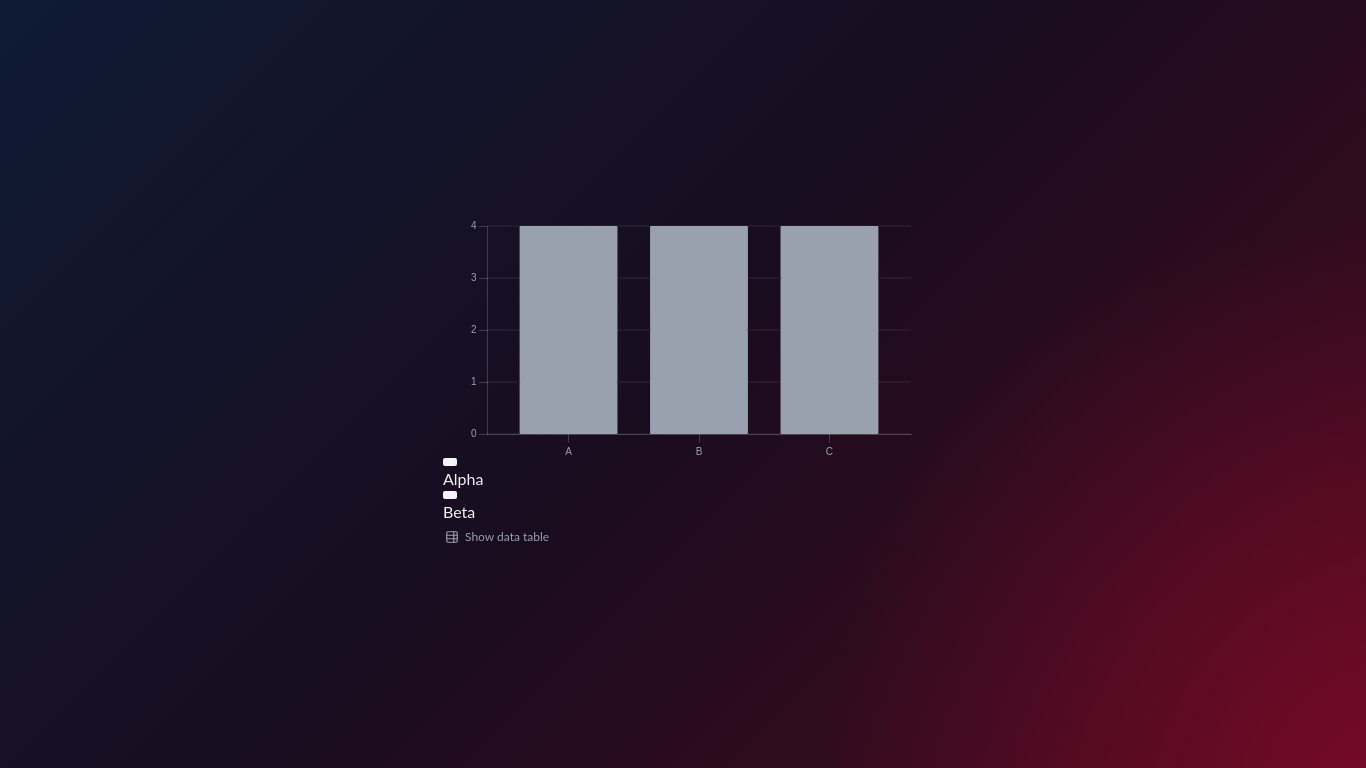
Scenario: charts › BarChart: role=img, keyboard-focus tooltip with live announcement, data table fallback, legend toggle
The width and height of the screenshot is (1366, 768).
Later steps or results of the test are not shown.
Press ArrowRight in the picture named "Deploys", box [443, 218, 923, 458]
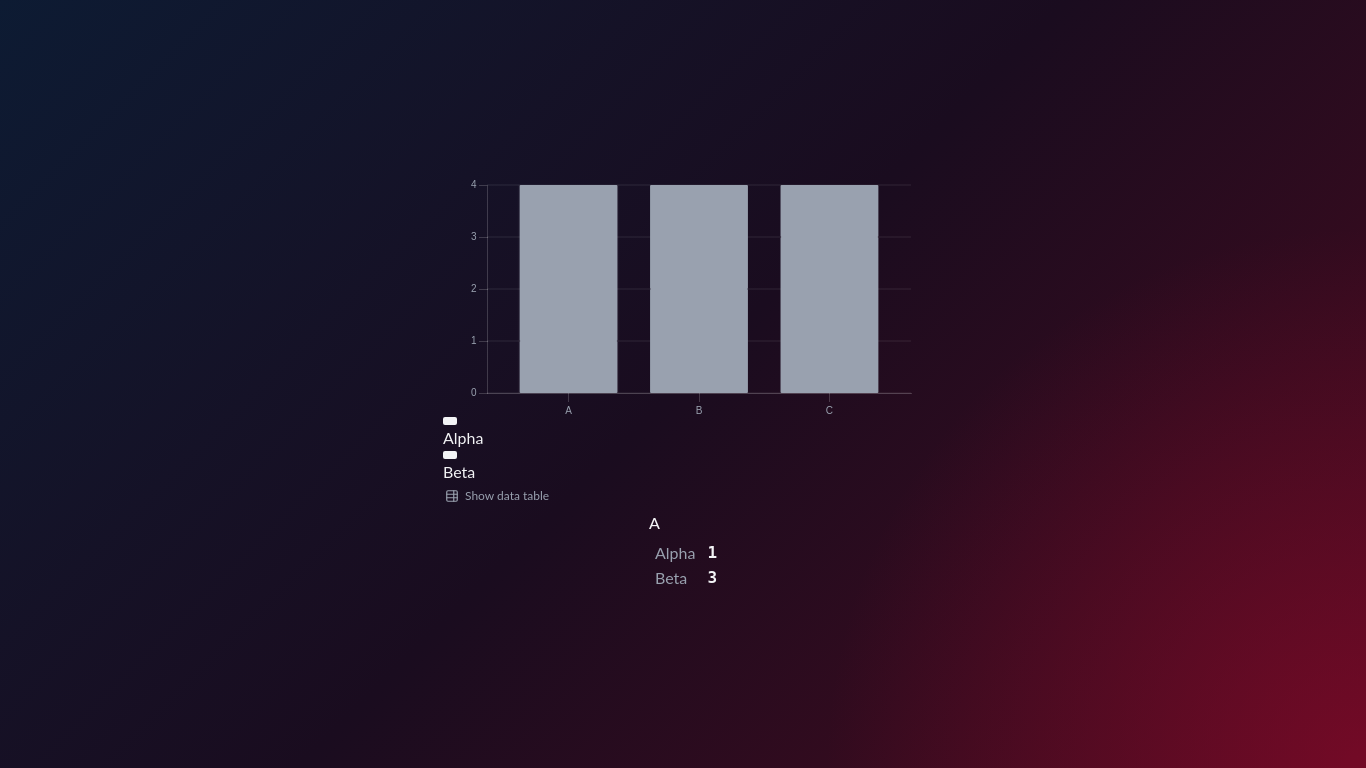
Press ArrowRight in the picture named "Deploys", box [443, 177, 923, 417]
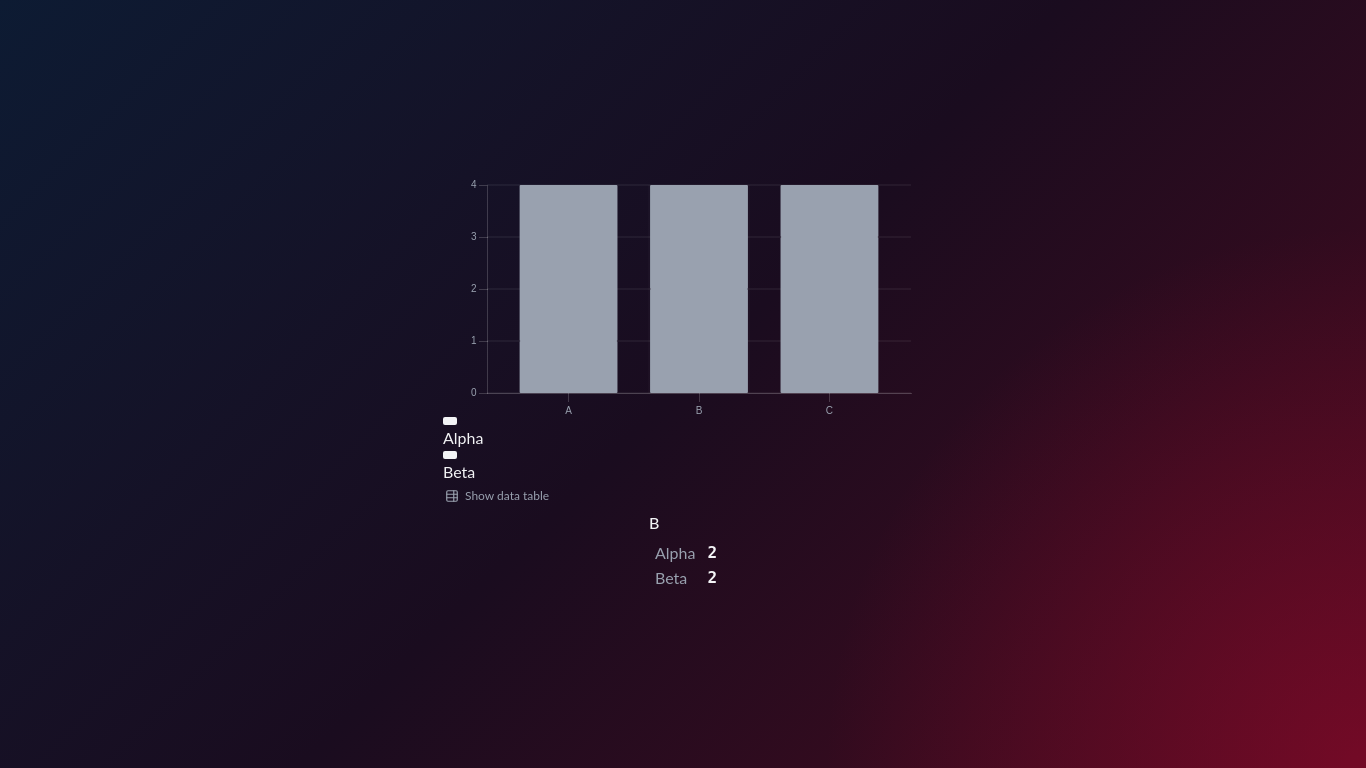
Press Escape in the picture named "Deploys", box [443, 177, 923, 417]
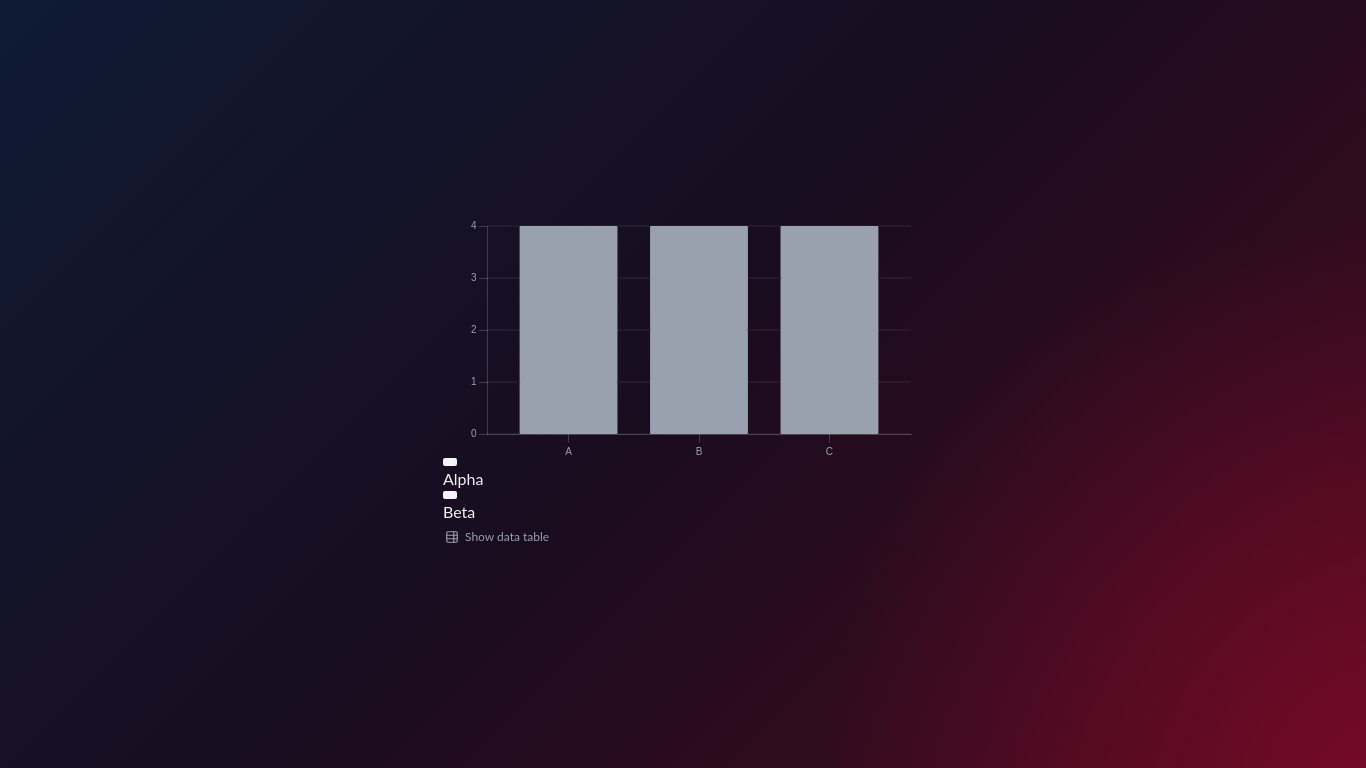
Click the button "Show data table" at [497, 537], box [443, 527, 551, 547]
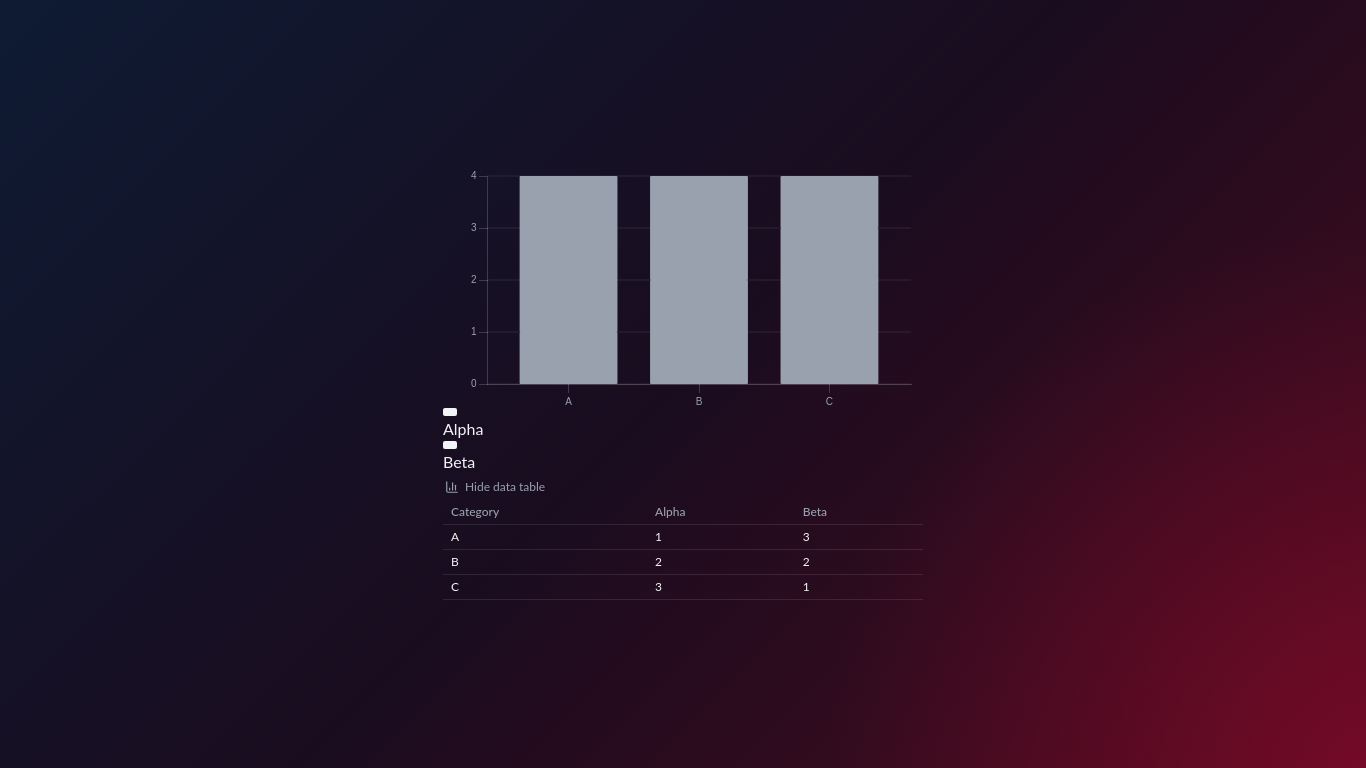
Now the table named "Deploys" is shown, box [443, 500, 923, 600]
Now the column heading "Beta" is shown, box [795, 500, 923, 525]
